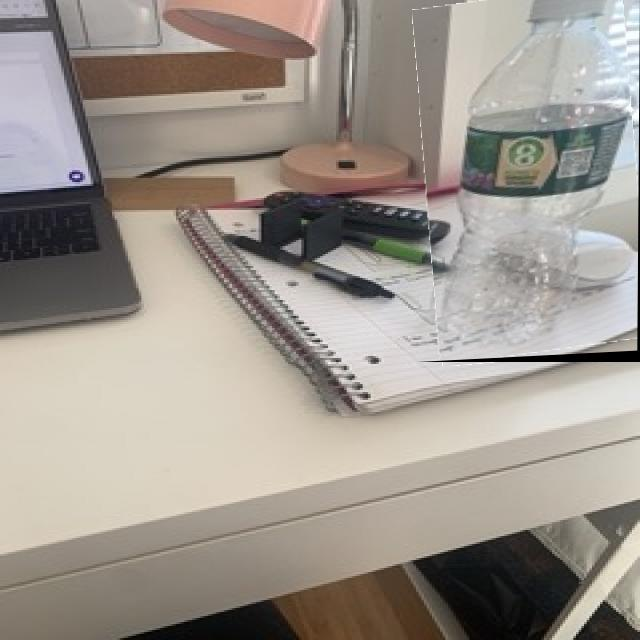water_bottle: (419, 0, 640, 362)
